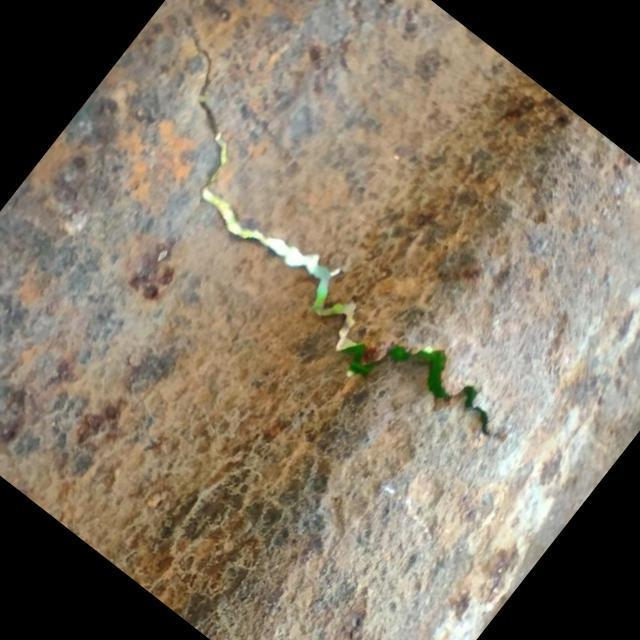defect: (180, 12, 500, 439)
